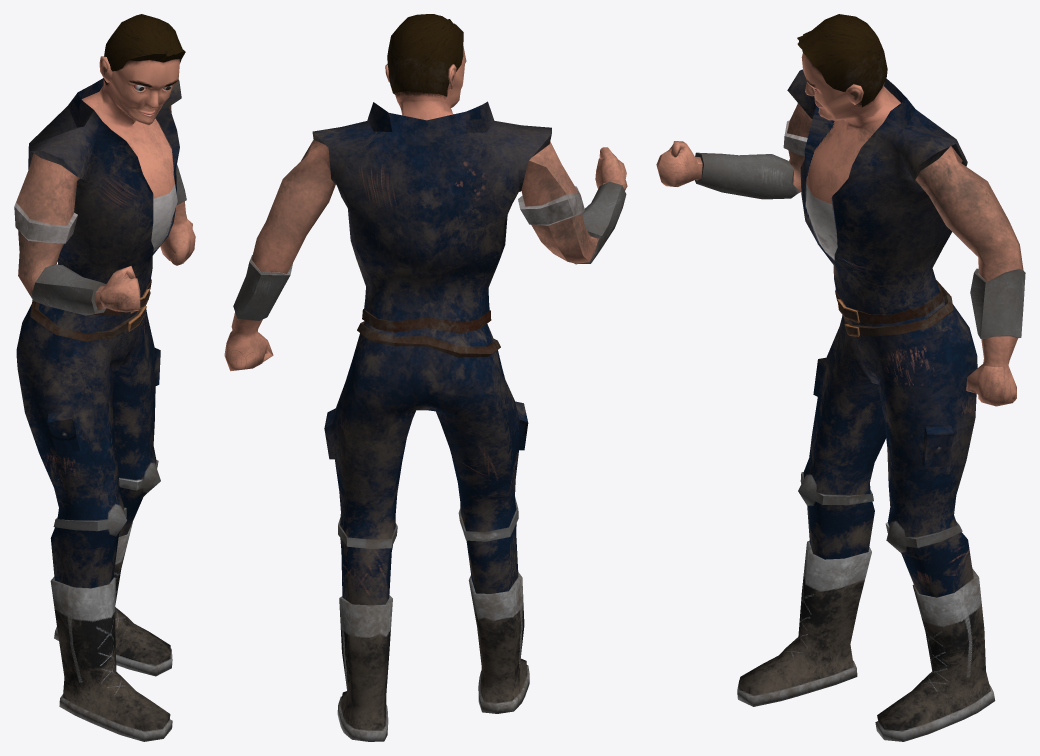
File: Anim_puerta_mal_jugador.0032.obj
3 views of the same model, side by side, from view 1: azimuth 30°, elevation 25°; view 2: azimuth 150°, elevation 25°; view 3: azimuth 270°, elevation 25° (orthographic). The views are drawn at different scales.
Parts seen in each view (by area): view 1: polySurface1; view 2: polySurface1; view 3: polySurface1.
Boxes of the visible parts, x1,y1,x2,y2 form: polySurface1: [14, 14, 195, 741]; polySurface1: [224, 14, 627, 741]; polySurface1: [656, 14, 1025, 741].
Size of the model in its own units: 3.88 by 9.55 by 4.58.
